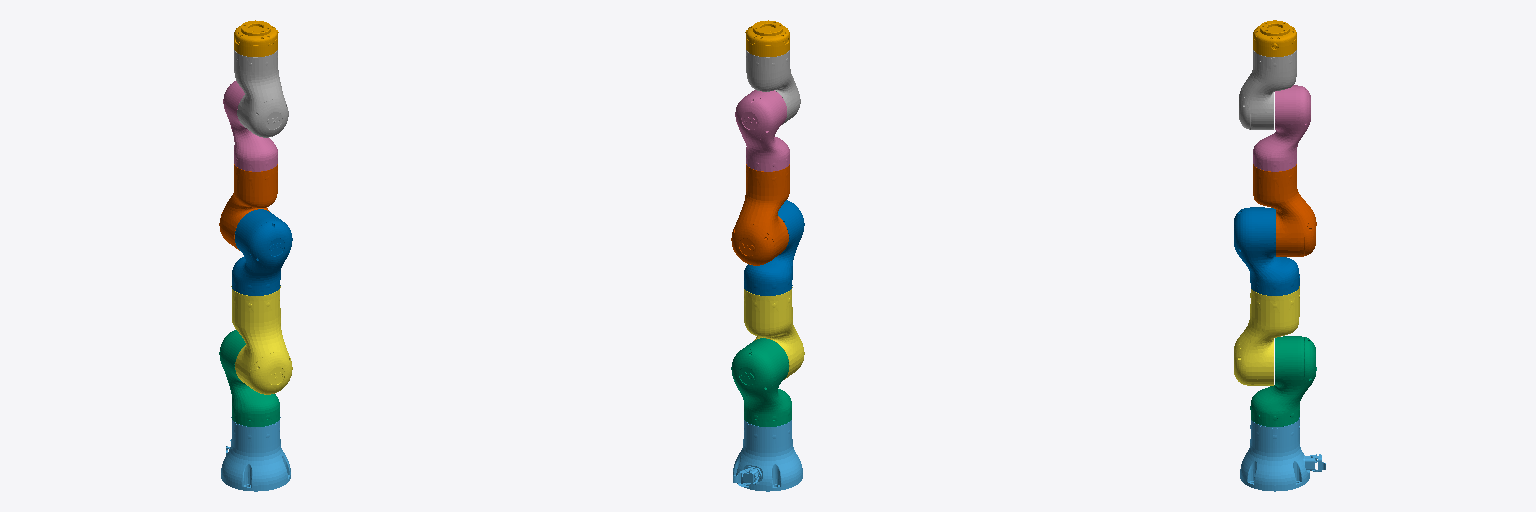
URDF robot description (Enlight-L):
<?xml version="1.0" ?>
<!-- =================================================================================== -->
<!-- |    This document was autogenerated by xacro from /workspaces/src/flexiv_description/urdf/flexiv.urdf.xacro | -->
<!-- |    EDITING THIS FILE BY HAND IS NOT RECOMMENDED                                 | -->
<!-- =================================================================================== -->
<!-- 
  COPYRIGHT & LICENSE ATTRIBUTION:
  Derived from the flexiv_description project.
  Original Repository: https://github.com/flexivrobotics/flexiv_description
  Original License: Apache License, Version 2.0

  MODIFICATION NOTICE:
  Modified by RobJMal in 2026. 
  Changes made: Updated package paths for visual and collision mesh resources.
-->
<robot name="Enlight-L">
  <material name="flexiv_black">
    <color rgba="0.22 0.22 0.22 1"/>
  </material>
  <joint name="base_joint" type="fixed">
    <parent link="world"/>
    <child link="base_link"/>
    <origin rpy="0.0 0.0 0.0" xyz="0.0 0.0 0.0"/>
  </joint>
  <joint name="joint1" type="revolute">
    <parent link="base_link"/>
    <child link="link1"/>
    <origin rpy="0.0 0.0 0.0" xyz="0.0 0.0 0.146"/>
    <axis xyz="0 0 1"/>
    <limit effort="100" lower="-6.3705" upper="6.3705" velocity="2.0944"/>
    <safety_controller k_position="100.0" k_velocity="40.0" soft_lower_limit="-6.2832" soft_upper_limit="6.2832"/>
  </joint>
  <joint name="joint2" type="revolute">
    <parent link="link1"/>
    <child link="link2"/>
    <origin rpy="1.5707963267948966 0.0 0.0" xyz="0.0 -0.037 0.114"/>
    <axis xyz="0 0 1"/>
    <limit effort="100" lower="-2.1817" upper="2.1817" velocity="2.0944"/>
    <safety_controller k_position="100.0" k_velocity="40.0" soft_lower_limit="-2.0944" soft_upper_limit="2.0944"/>
  </joint>
  <joint name="joint3" type="revolute">
    <parent link="link2"/>
    <child link="link3"/>
    <origin rpy="-1.5707963267948966 0.0 0.0" xyz="0.0 0.181 -0.037"/>
    <axis xyz="0 0 1"/>
    <limit effort="100" lower="-6.3705" upper="6.3705" velocity="2.0944"/>
    <safety_controller k_position="100.0" k_velocity="40.0" soft_lower_limit="-6.2832" soft_upper_limit="6.2832"/>
  </joint>
  <joint name="joint4" type="revolute">
    <parent link="link3"/>
    <child link="link4"/>
    <origin rpy="-1.5707963267948966 0.0 0.0" xyz="0.0 0.037 0.109"/>
    <axis xyz="0 0 1"/>
    <limit effort="100" lower="-2.1817" upper="2.1817" velocity="2.0944"/>
    <safety_controller k_position="100.0" k_velocity="40.0" soft_lower_limit="-2.0944" soft_upper_limit="2.0944"/>
  </joint>
  <joint name="joint5" type="revolute">
    <parent link="link4"/>
    <child link="link5"/>
    <origin rpy="1.5707963267948966 0.0 0.0" xyz="0.0 -0.156 -0.037"/>
    <axis xyz="0 0 1"/>
    <limit effort="21" lower="-6.3705" upper="6.3705" velocity="6.0214"/>
    <safety_controller k_position="100.0" k_velocity="40.0" soft_lower_limit="-6.2832" soft_upper_limit="6.2832"/>
  </joint>
  <joint name="joint6" type="revolute">
    <parent link="link5"/>
    <child link="link6"/>
    <origin rpy="1.5707963267948966 0.0 0.0" xyz="0.0 -0.0261 0.124"/>
    <axis xyz="0 0 1"/>
    <limit effort="21" lower="-2.1817" upper="2.1817" velocity="6.0214"/>
    <safety_controller k_position="100.0" k_velocity="40.0" soft_lower_limit="-2.0944" soft_upper_limit="2.0944"/>
  </joint>
  <joint name="joint7" type="revolute">
    <parent link="link6"/>
    <child link="link7"/>
    <origin rpy="-1.5707963267948966 0.0 0.0" xyz="0.0 0.134 -0.0261"/>
    <axis xyz="0 0 1"/>
    <limit effort="21" lower="-6.3705" upper="6.3705" velocity="6.0214"/>
    <safety_controller k_position="100.0" k_velocity="40.0" soft_lower_limit="-6.2832" soft_upper_limit="6.2832"/>
  </joint>
  <joint name="link7_to_flange" type="fixed">
    <parent link="link7"/>
    <child link="flange"/>
    <origin rpy="0.0 0.0 0.0" xyz="0.0 0.0 0.048"/>
  </joint>
  <link name="world">
      </link>
  <link name="base_link">
    <origin rpy="0.0 0.0 0.0" xyz="-0.0001 0.0019 0.0721"/>
    <mass value="2.456"/>
    <inertia ixx="0.0072" ixy="0.0" ixz="0.0" iyy="0.0068" iyz="-0.0002" izz="0.0048"/>
    <visual name="shell">
      <origin rpy="0 0 0" xyz="0 0 0"/>
      <geometry>
        <mesh filename="meshes/Enlight-L/visual/link0.obj"/>
      </geometry>
    </visual>
    <collision name="convex_mesh">
      <origin rpy="0 0 0" xyz="0 0 0"/>
      <geometry>
        <mesh filename="meshes/Enlight-L/collision/link0.stl"/>
      </geometry>
    </collision>
    <workspace>
      <origin rpy="0.0 0.0 0.0" xyz="0.0 0.0 0.25"/>
      <geometry>
        <sphere radius="0.6"/>
      </geometry>
    </workspace>
  </link>
  <link name="link1">
    <origin rpy="0.0 0.0 0.0" xyz="0.0001 0.0105 0.0766"/>
    <mass value="2.484"/>
    <inertia ixx="0.0096" ixy="0.0" ixz="0.0" iyy="0.0094" iyz="0.0007" izz="0.0031"/>
    <visual name="shell">
      <origin rpy="0 0 0" xyz="0 0 0"/>
      <geometry>
        <mesh filename="meshes/Enlight-L/visual/link1.obj"/>
      </geometry>
    </visual>
    <collision name="convex_mesh">
      <origin rpy="0 0 0" xyz="0 0 0"/>
      <geometry>
        <mesh filename="meshes/Enlight-L/collision/link1.stl"/>
      </geometry>
    </collision>
  </link>
  <link name="link2">
    <origin rpy="0.0 0.0 0.0" xyz="0.0001 0.0861 -0.0262"/>
    <mass value="2.698"/>
    <inertia ixx="0.0133" ixy="0.0" ixz="0.0" iyy="0.0038" iyz="-0.0022" izz="0.0129"/>
    <visual name="shell">
      <origin rpy="0 0 0" xyz="0 0 0"/>
      <geometry>
        <mesh filename="meshes/Enlight-L/visual/link2.obj"/>
      </geometry>
    </visual>
    <collision name="convex_mesh">
      <origin rpy="0 0 0" xyz="0 0 0"/>
      <geometry>
        <mesh filename="meshes/Enlight-L/collision/link2.stl"/>
      </geometry>
    </collision>
  </link>
  <link name="link3">
    <origin rpy="0.0 0.0 0.0" xyz="0.0001 -0.0105 0.073"/>
    <mass value="2.475"/>
    <inertia ixx="0.009" ixy="0.0" ixz="0.0" iyy="0.0088" iyz="-0.0007" izz="0.0031"/>
    <visual name="shell">
      <origin rpy="0 0 0" xyz="0 0 0"/>
      <geometry>
        <mesh filename="meshes/Enlight-L/visual/link3.obj"/>
      </geometry>
    </visual>
    <collision name="convex_mesh">
      <origin rpy="0 0 0" xyz="0 0 0"/>
      <geometry>
        <mesh filename="meshes/Enlight-L/collision/link3.stl"/>
      </geometry>
    </collision>
  </link>
  <link name="link4">
    <origin rpy="0.0 0.0 0.0" xyz="0.0002 -0.0643 -0.019"/>
    <mass value="1.96"/>
    <inertia ixx="0.0087" ixy="0.0" ixz="0.0" iyy="0.0026" iyz="0.0019" izz="0.0083"/>
    <visual name="shell">
      <origin rpy="0 0 0" xyz="0 0 0"/>
      <geometry>
        <mesh filename="meshes/Enlight-L/visual/link4.obj"/>
      </geometry>
    </visual>
    <collision name="convex_mesh">
      <origin rpy="0 0 0" xyz="0 0 0"/>
      <geometry>
        <mesh filename="meshes/Enlight-L/collision/link4.stl"/>
      </geometry>
    </collision>
  </link>
  <link name="link5">
    <origin rpy="0.0 0.0 0.0" xyz="0.0002 0.01 0.0841"/>
    <mass value="1.458"/>
    <inertia ixx="0.0053" ixy="0.0" ixz="0.0" iyy="0.0053" iyz="0.0003" izz="0.0014"/>
    <visual name="shell">
      <origin rpy="0 0 0" xyz="0 0 0"/>
      <geometry>
        <mesh filename="meshes/Enlight-L/visual/link5.obj"/>
      </geometry>
    </visual>
    <collision name="convex_mesh">
      <origin rpy="0 0 0" xyz="0 0 0"/>
      <geometry>
        <mesh filename="meshes/Enlight-L/collision/link5.stl"/>
      </geometry>
    </collision>
  </link>
  <link name="link6">
    <origin rpy="0.0 0.0 0.0" xyz="0.0003 0.0691 -0.0169"/>
    <mass value="1.384"/>
    <inertia ixx="0.0041" ixy="0.0" ixz="0.0" iyy="0.0016" iyz="-0.0008" izz="0.0039"/>
    <visual name="shell">
      <origin rpy="0 0 0" xyz="0 0 0"/>
      <geometry>
        <mesh filename="meshes/Enlight-L/visual/link6.obj"/>
      </geometry>
    </visual>
    <collision name="convex_mesh">
      <origin rpy="0 0 0" xyz="0 0 0"/>
      <geometry>
        <mesh filename="meshes/Enlight-L/collision/link6.stl"/>
      </geometry>
    </collision>
  </link>
  <link name="link7">
    <origin rpy="0.0 0.0 0.0" xyz="0.0006 0.0 0.0105"/>
    <mass value="0.445"/>
    <inertia ixx="0.0037" ixy="0.0" ixz="0.0" iyy="0.0037" iyz="0.0" izz="0.0004"/>
    <visual name="shell">
      <origin rpy="0 0 0" xyz="0 0 0"/>
      <geometry>
        <mesh filename="meshes/Enlight-L/visual/link7.obj"/>
      </geometry>
    </visual>
    <collision name="convex_mesh">
      <origin rpy="0 0 0" xyz="0 0 0"/>
      <geometry>
        <mesh filename="meshes/Enlight-L/collision/link7.stl"/>
      </geometry>
    </collision>
  </link>
  <link name="flange">
    </link>
</robot>

--- Facts derived from the render (not from the file) ---
Views: 3 orthographic renders of the robot side by side, from view 1: azimuth 30°, elevation 25°; view 2: azimuth 150°, elevation 25°; view 3: azimuth 270°, elevation 25°.
Robot: Enlight-L — 10 links, 9 joints (7 revolute, 2 fixed); root link world; default pose: every joint at zero.
Links seen in each view (by area): view 1: link2, link3, base_link, link6, link1, link4, link5, link7; view 2: link4, link1, base_link, link5, link2, link3, link6, link7; view 3: link2, base_link, link1, link3, link4, link5, link6, link7.
Link boxes in pixels (<box>): link2: <box>231,286,292,394</box>; link3: <box>232,209,292,295</box>; base_link: <box>221,417,290,491</box>; link6: <box>234,50,288,137</box>; link1: <box>219,330,279,426</box>; link4: <box>219,164,277,250</box>; link5: <box>223,81,277,171</box>; link7: <box>234,20,278,56</box>; link4: <box>731,164,789,265</box>; link1: <box>731,338,791,426</box>; base_link: <box>733,420,802,491</box>; link5: <box>735,90,789,171</box>; link2: <box>744,287,804,379</box>; link3: <box>744,200,804,295</box>; link6: <box>746,50,800,124</box>; link7: <box>745,20,789,56</box>; link2: <box>1234,286,1299,385</box>; base_link: <box>1240,417,1325,491</box>; link1: <box>1250,336,1316,426</box>; link3: <box>1234,207,1299,295</box>; link4: <box>1253,164,1316,256</box>; link5: <box>1253,85,1310,171</box>; link6: <box>1239,50,1296,129</box>; link7: <box>1253,20,1296,56</box>.
Bounding box of the posed robot: 0.1425 × 0.1892 × 1.01 m (x, y, z).
8 mesh visuals loaded from 8 distinct referenced files (8 OBJ).
